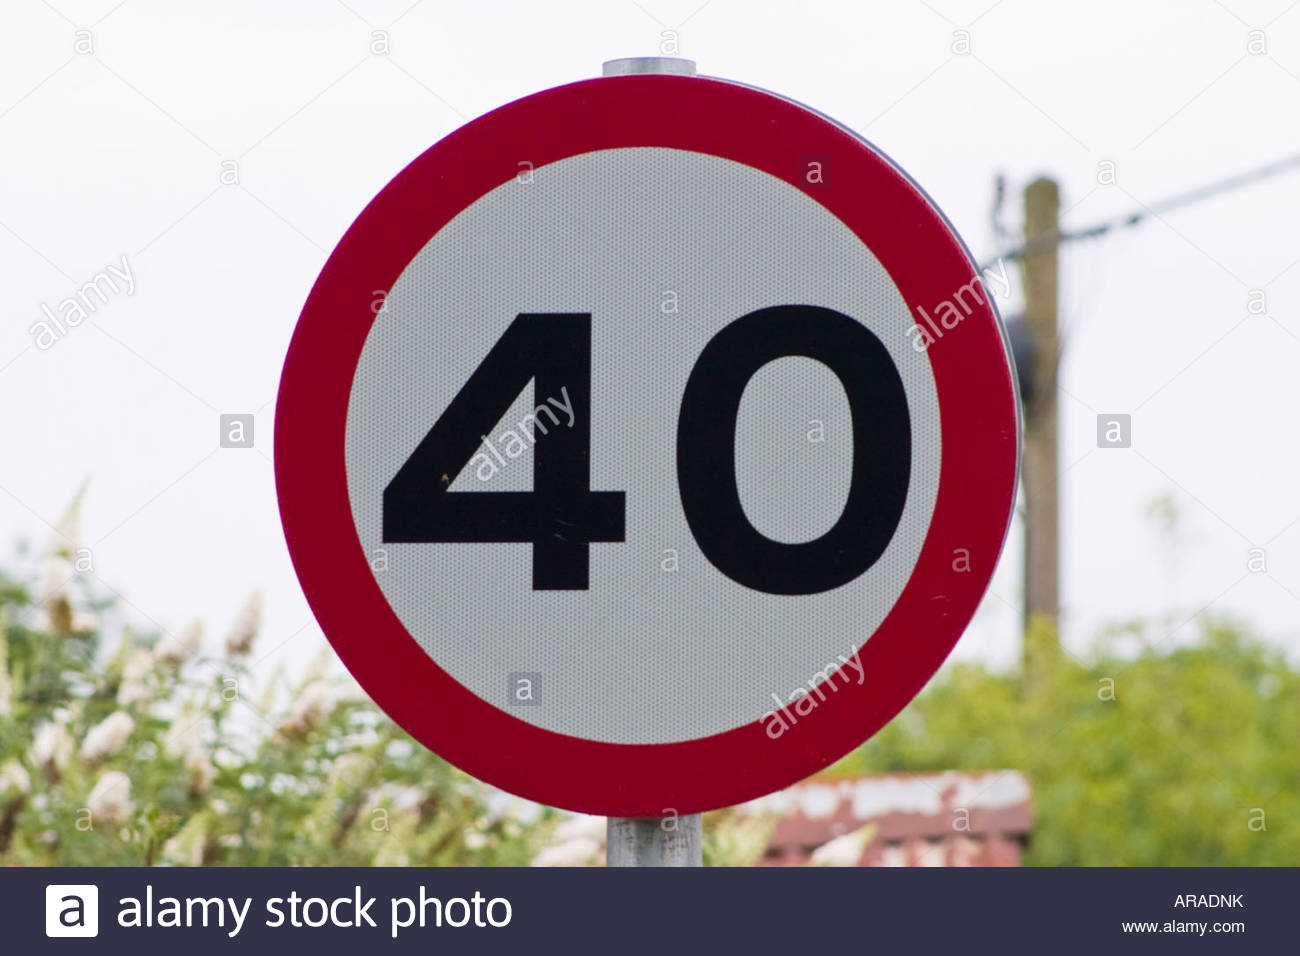Speed_limit_40km: (276, 74, 1030, 830)
